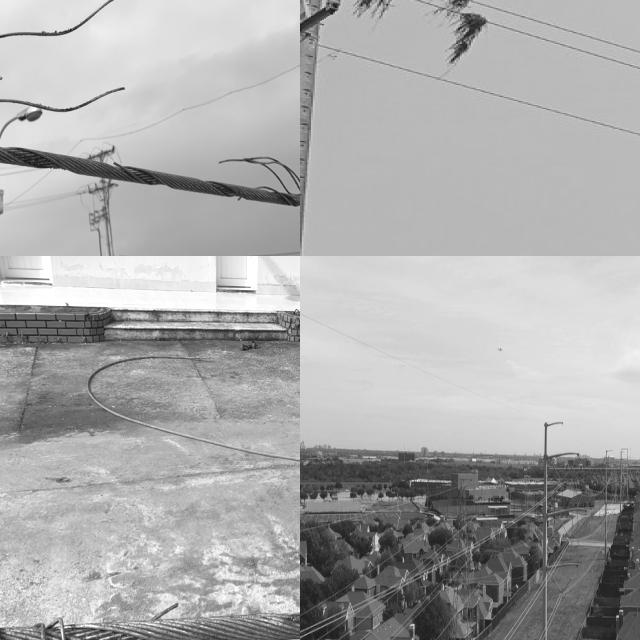杆塔: (443, 467, 481, 640)
植被遮挡: (431, 0, 490, 66), (355, 0, 398, 18)
正常绝缘子: (559, 571, 576, 598), (559, 460, 576, 486), (558, 516, 573, 543), (567, 518, 582, 544), (551, 459, 565, 486), (550, 570, 564, 596)
电缆破损: (0, 0, 300, 211), (0, 579, 300, 640)
